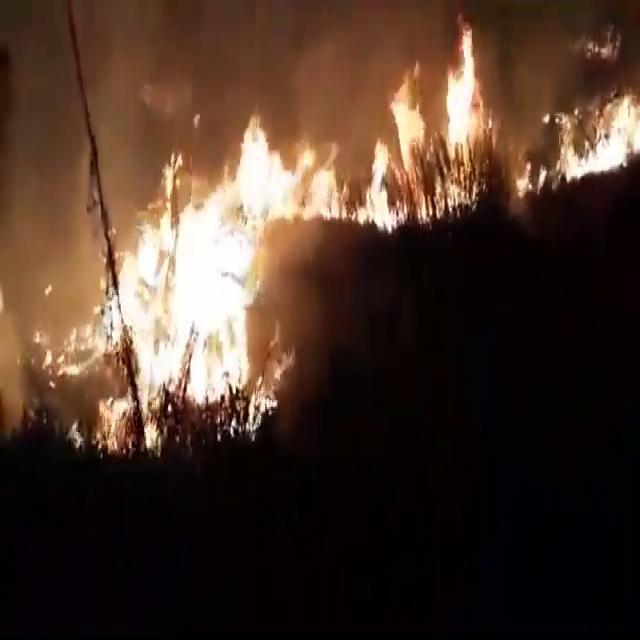Fire: (131, 224, 247, 390), (234, 129, 292, 218), (450, 48, 474, 148)
